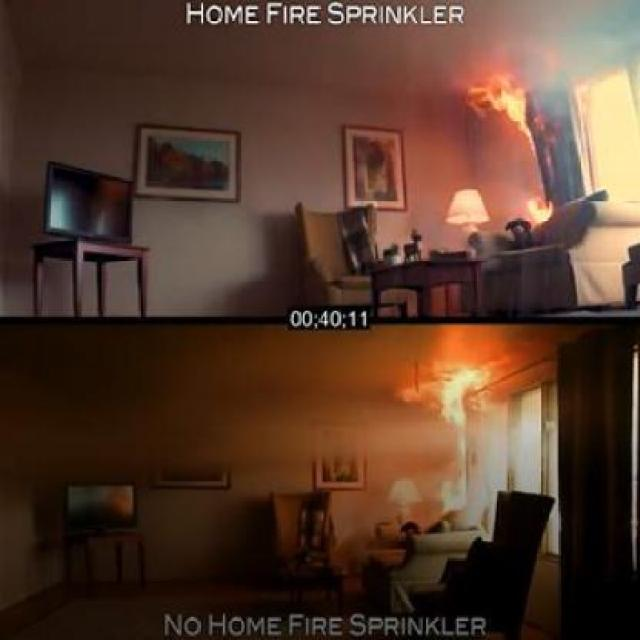Fire: (468, 73, 532, 113), (441, 369, 474, 418), (392, 383, 443, 411), (440, 478, 462, 514), (512, 112, 534, 140), (530, 194, 548, 226)
